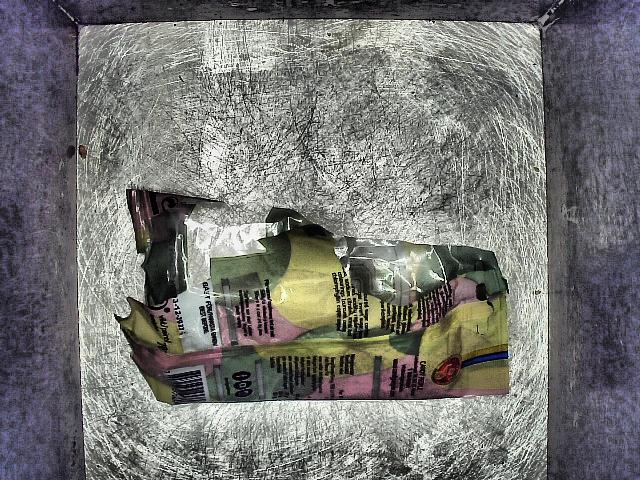Plastic: (111, 175, 516, 423)
